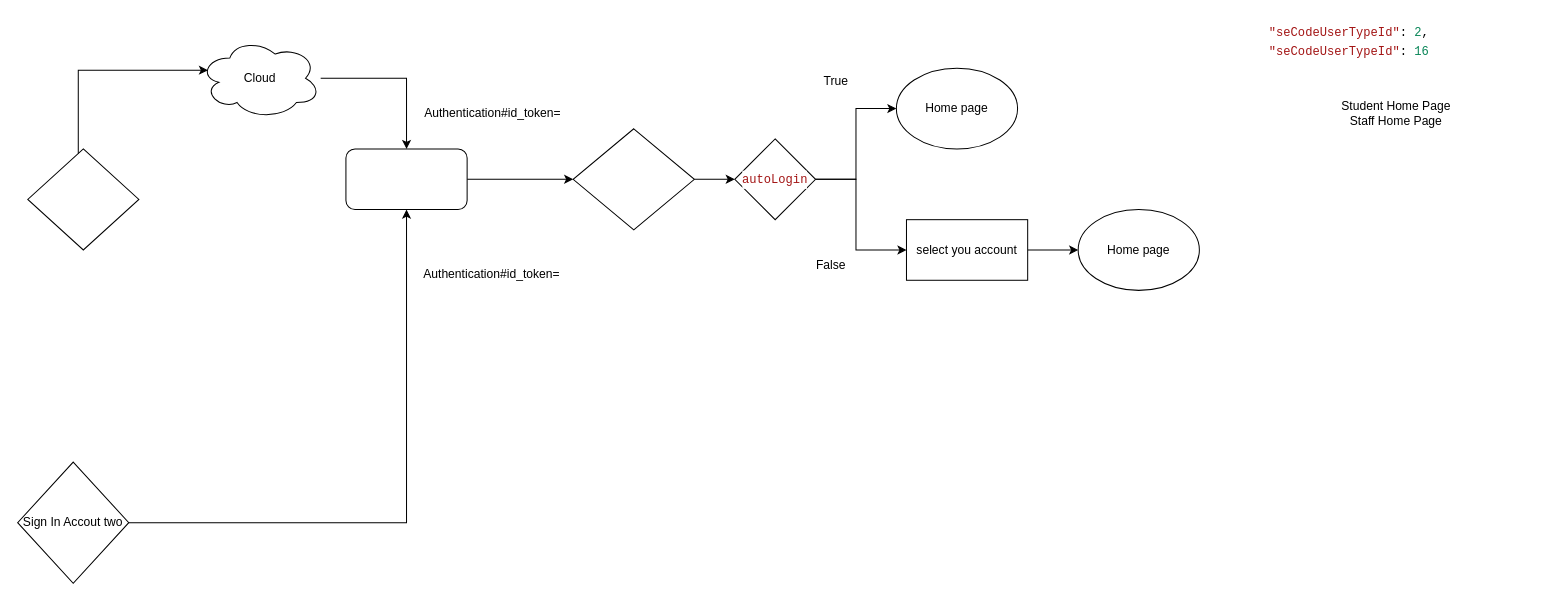
Image size: 1545x601. Some labels were removed from this diagram. Here are the shapes that lost their labels. From the top down, the box of each, then its label:
(27, 148, 139, 250): Sign In
(345, 148, 467, 210): Authentiction
(572, 128, 694, 230): Handle Authentication
